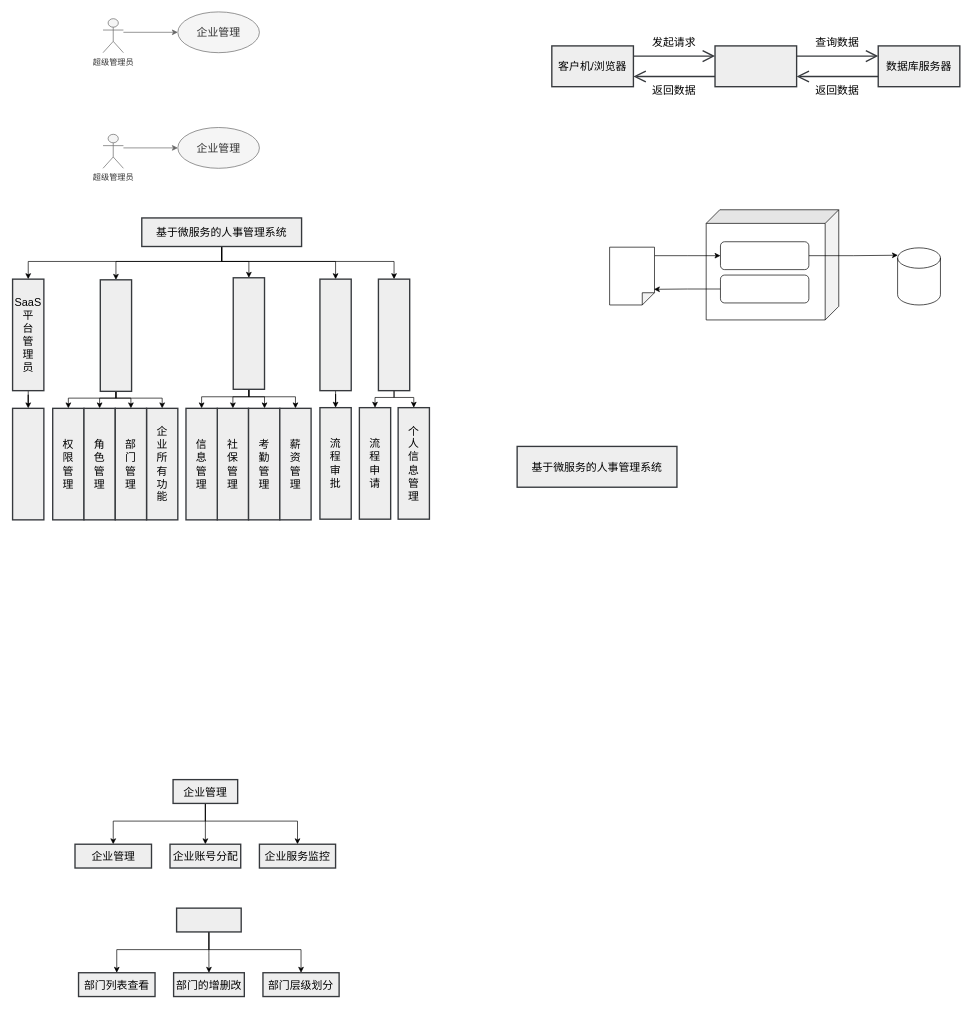
The diagram is 972 pixels wide and 1009 high, and some of its shapes have lost their labels. Each missing label, with the centre of its shape:
"人 事 管 理 员" belongs at point (248, 333).
"企 业 普 通 职 员" belongs at point (393, 334).
"企 业 管 理 员" belongs at point (115, 335).
"平 台 企 业 管 理" belongs at point (28, 463).
"应用服务器" belongs at point (755, 66).
"部 门 负 责 人" belongs at point (335, 334).
"部门管理" belongs at point (209, 919).
